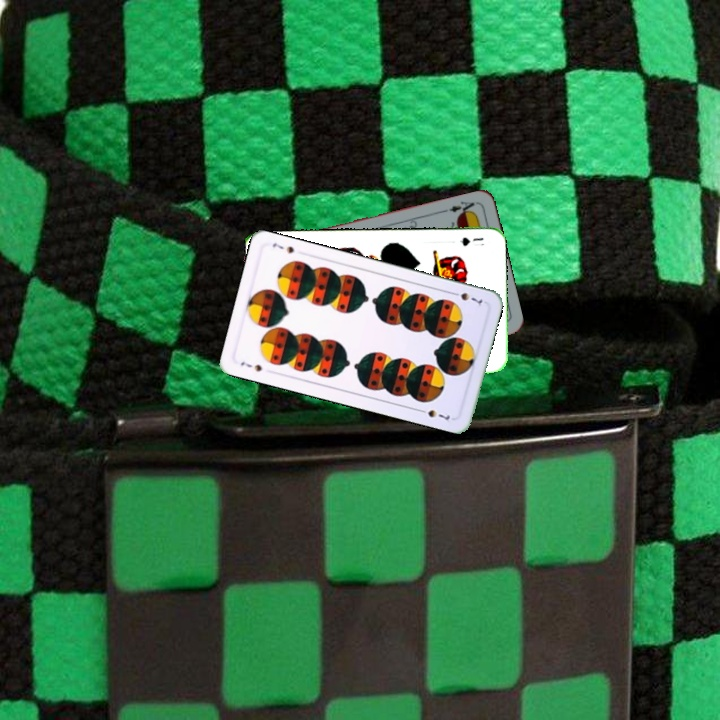EA: (440, 197, 480, 219)
GU: (456, 233, 487, 248)
S7: (447, 288, 484, 309), (237, 358, 264, 374)
